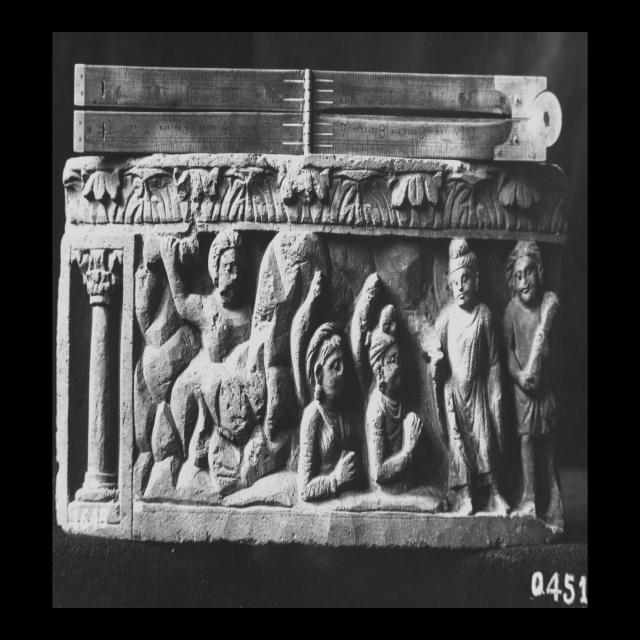buddha-standing: (435, 238, 509, 516)
